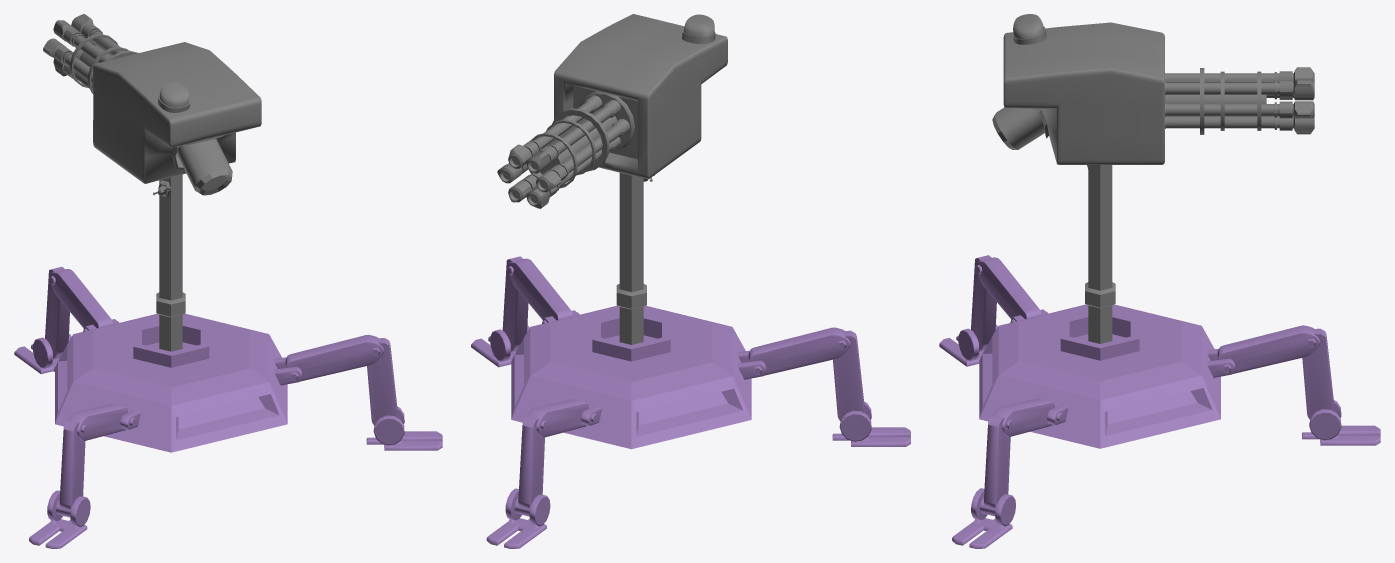
Rendered from TurretMulBar_low.fbx.
3 renders of one model, left to right at view 1: azimuth 30°, elevation 25°; view 2: azimuth 150°, elevation 25°; view 3: azimuth 270°, elevation 25°, orthographic. The views are drawn at different scales.
Parts seen in each view (by area): view 1: Base, TurretBody, Barrells, ModeLight; view 2: Base, TurretBody, Barrells, ModeLight; view 3: Base, TurretBody, Barrells, ModeLight.
Part boxes in pixels (x1,y1,x2,y2): Base: (14, 267, 442, 548); TurretBody: (93, 42, 261, 351); Barrells: (43, 14, 138, 93); ModeLight: (158, 81, 190, 112); Base: (471, 256, 910, 548); TurretBody: (554, 14, 727, 344); Barrells: (497, 91, 634, 208); ModeLight: (682, 14, 715, 44); Base: (939, 255, 1380, 548); TurretBody: (992, 22, 1164, 343); Barrells: (1165, 67, 1314, 134); ModeLight: (1012, 14, 1046, 44).
Size of the model in its own units: 95.88 by 87.07 by 84.93.
